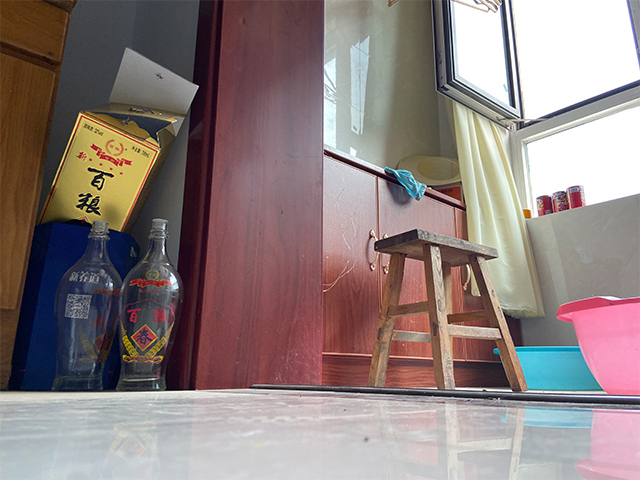cabinet: (322, 143, 524, 388)
stool: (366, 228, 529, 392)
